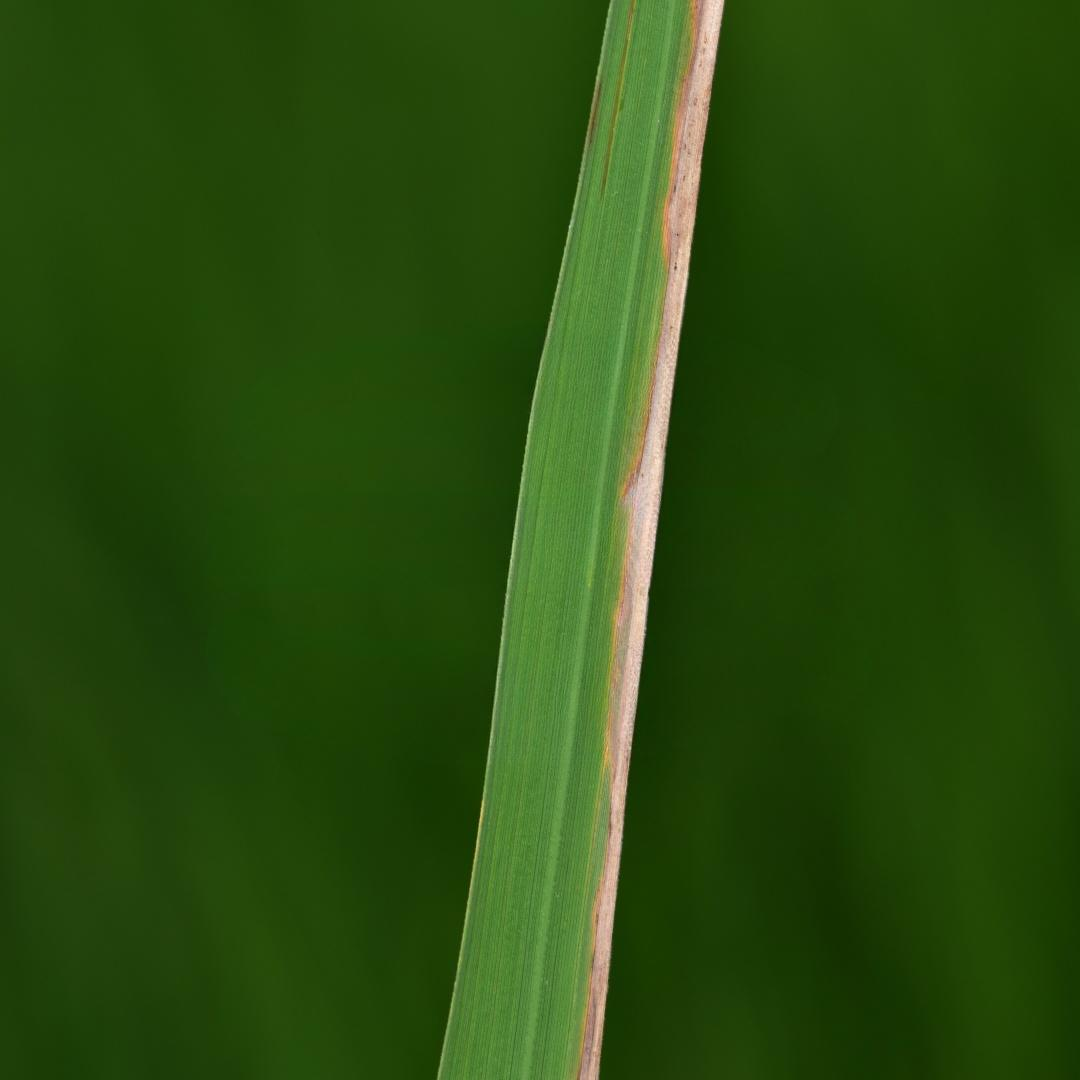BLB: (577, 1, 724, 1079)
LEAF: (438, 0, 725, 1079)
